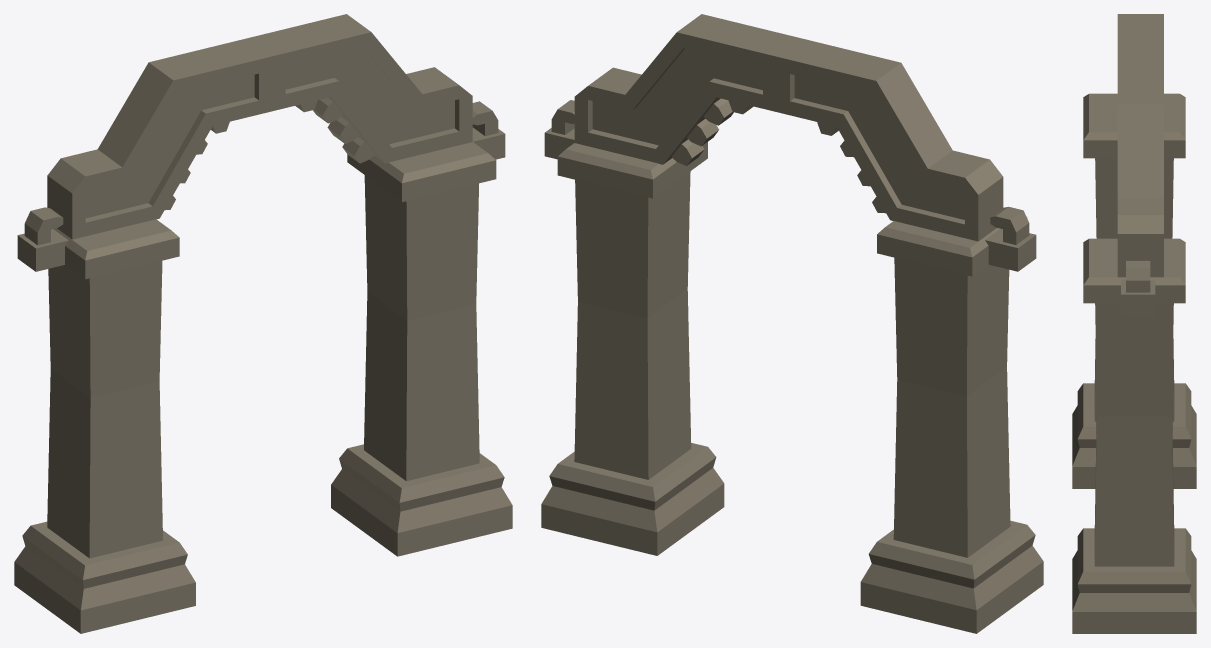
Rendered from TempleArcPillar_A.fbx.
3 renders of one model, left to right at view 1: azimuth 30°, elevation 25°; view 2: azimuth 150°, elevation 25°; view 3: azimuth 270°, elevation 25°, orthographic. The views are drawn at different scales.
Parts seen in each view (by area): view 1: TempleArcPillar_A; view 2: TempleArcPillar_A; view 3: TempleArcPillar_A.
Part boxes in pixels (x1,y1,x2,y2): TempleArcPillar_A: [14, 14, 512, 633]; TempleArcPillar_A: [541, 14, 1043, 633]; TempleArcPillar_A: [1072, 14, 1196, 633].
Size of the model in its own units: 912 by 941 by 223.
